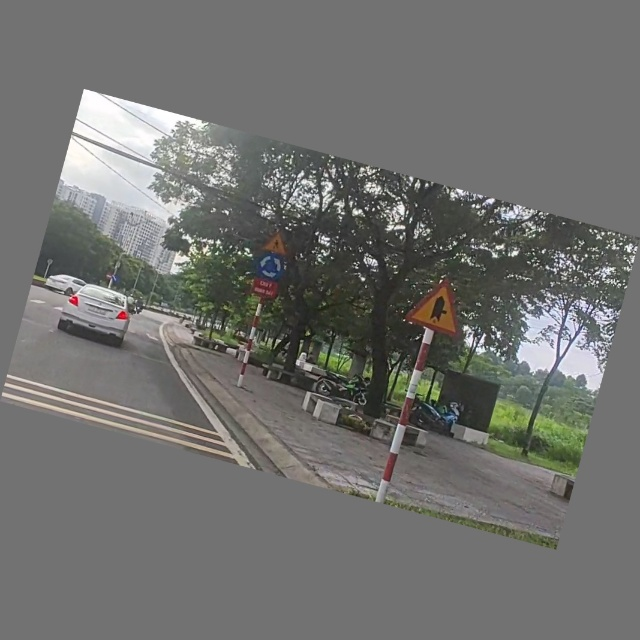P.102: (104, 272, 113, 281)
R.302a: (110, 274, 120, 284)
R.303: (253, 251, 290, 284)
W.207: (402, 269, 476, 342)
W.224: (259, 228, 295, 259)
